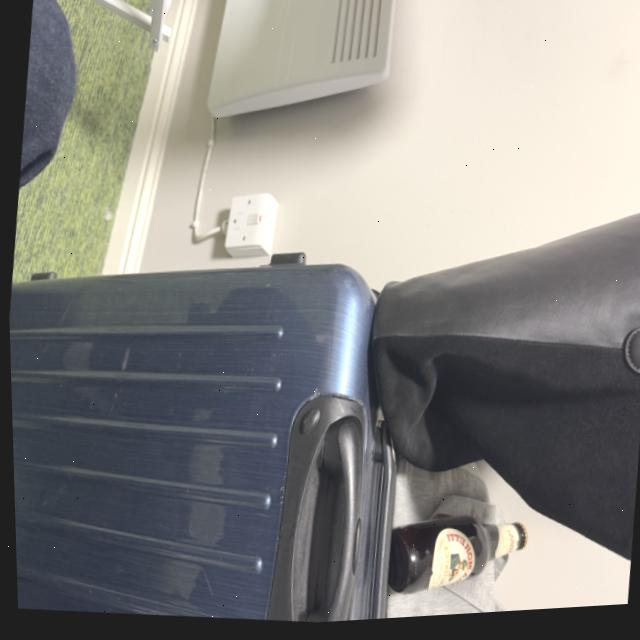beer: (374, 500, 531, 621)
